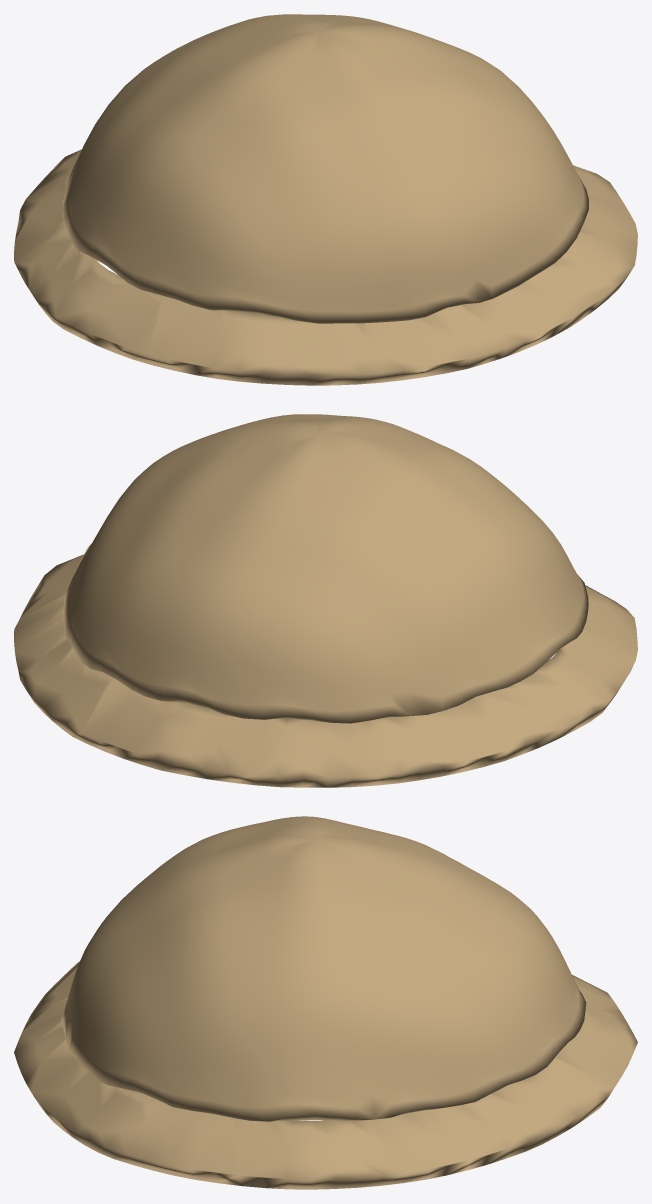
File: 3HT-feminino.glb
3 views of the same model, one above another, from view 1: azimuth 30°, elevation 25°; view 2: azimuth 150°, elevation 25°; view 3: azimuth 270°, elevation 25° (orthographic).
Visible parts, largest first — view 1: crown, shaped-brim; view 2: crown, shaped-brim; view 3: crown, shaped-brim.
Part boxes in pixels (box(x1,y1,x2,y2)): crown: box(62, 14, 588, 323); shaped-brim: box(14, 149, 637, 385); crown: box(63, 414, 588, 723); shaped-brim: box(14, 554, 637, 787); crown: box(61, 816, 586, 1121); shaped-brim: box(14, 961, 637, 1189).
Bounding box in the file's own units: 0.0507 × 0.0202 × 0.0499.
